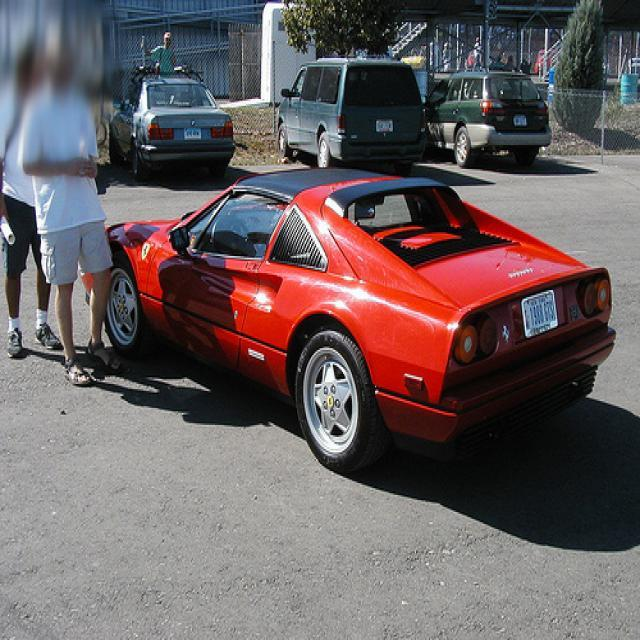Car: (109, 142, 621, 493)
